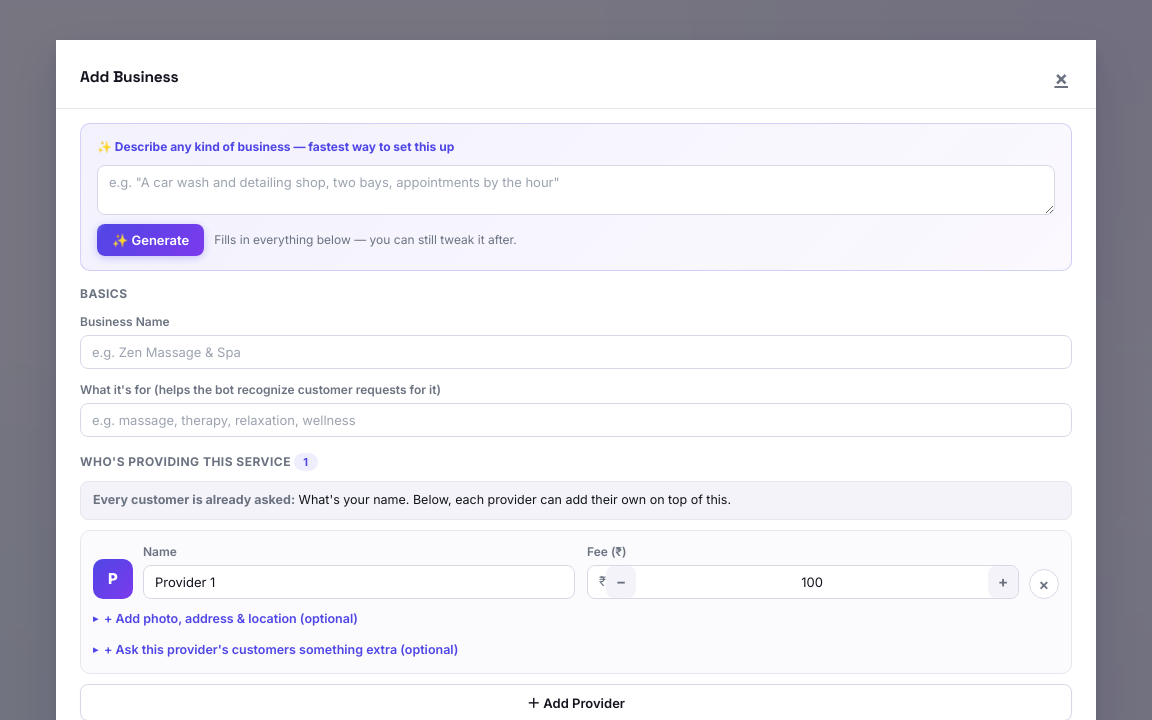
Test: WorkflowEditorModal › adding a provider increases the provider count badge
expect the text "1" is shown: met, box [294,453,318,471]
Click the button "＋ Add Provider" at (576,702), box [80,684,1072,719]
(page scrolled)
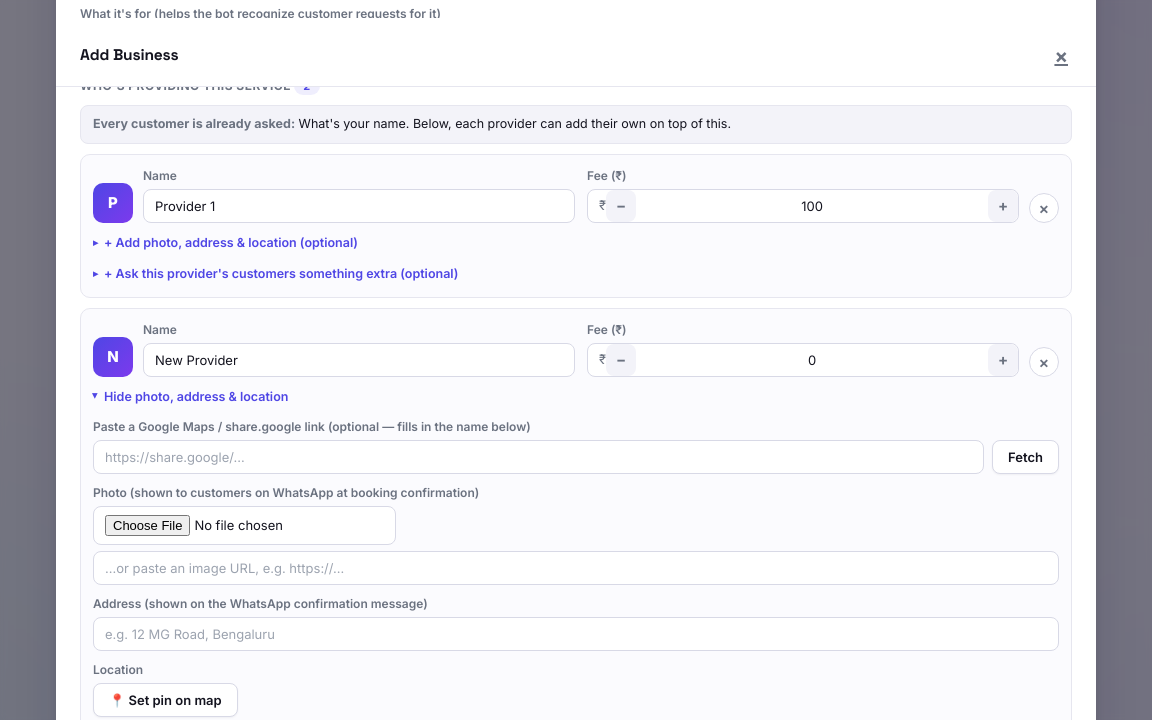
expect the text "2" is shown: met, box [294,77,320,95]
expect the 2nd field showing "New Provider" is shown: met, box [143,343,575,377]
